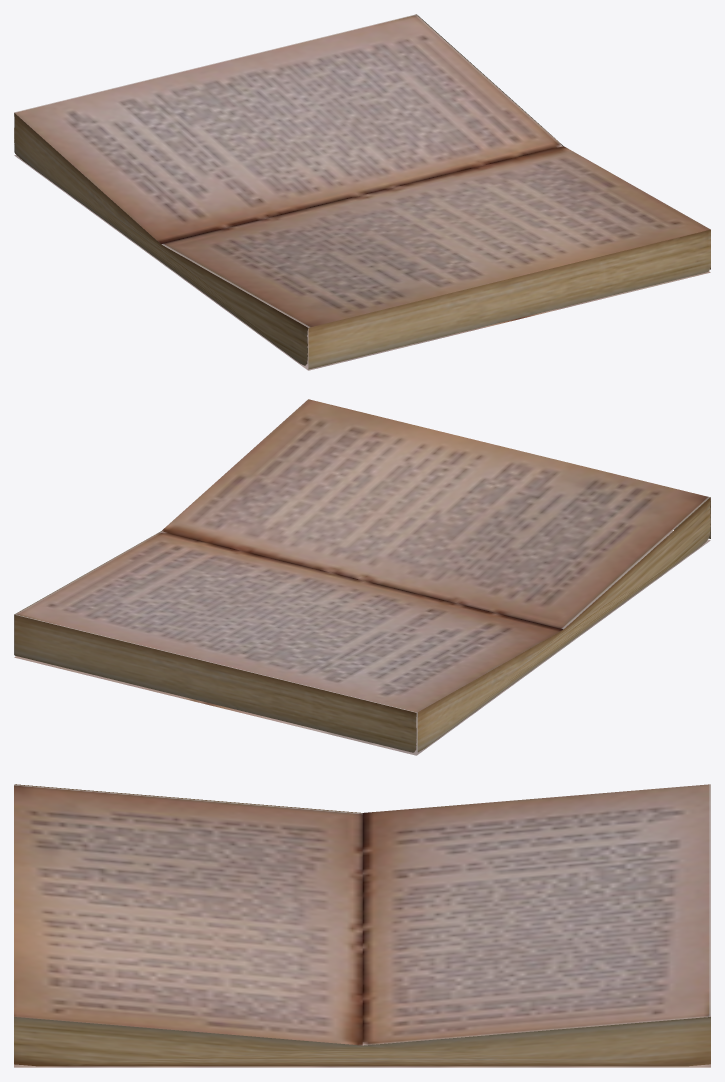
Rendered from openBook01.fbx.
3 views of the same model, one above another, from view 1: azimuth 30°, elevation 25°; view 2: azimuth 150°, elevation 25°; view 3: azimuth 270°, elevation 25° (orthographic). The views are drawn at different scales.
Parts seen in each view (by area): view 1: Cube; view 2: Cube; view 3: Cube.
Part boxes in pixels (left/top/right/bottom): Cube: left=14, top=14, right=710, bottom=370; Cube: left=14, top=399, right=710, bottom=755; Cube: left=14, top=784, right=710, bottom=1067.
Bounding box in the file's own units: 200 × 20.38 × 253.
1 material, 1 textured.
